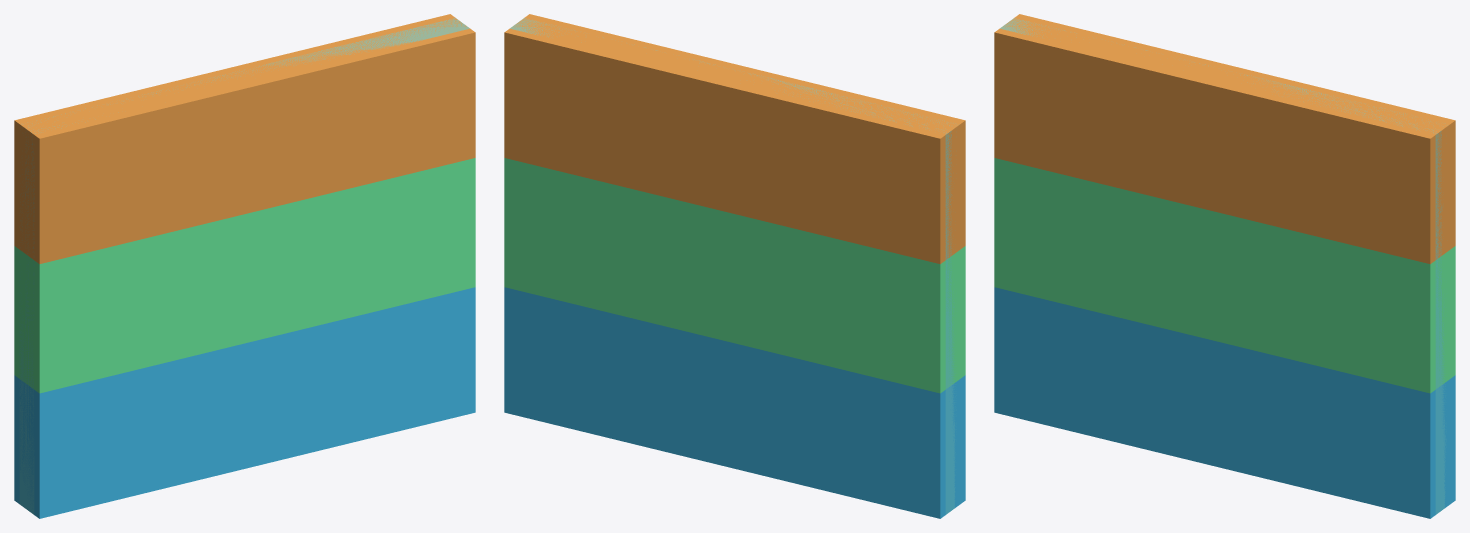
Rendered from dranmar_closure_adhesive_bond_stages_debug.glb.
The picture shows the model from 3 angles, left to right: view 1: azimuth 30°, elevation 25°; view 2: azimuth 150°, elevation 25°; view 3: azimuth 330°, elevation 25°; orthographic projection.
Visible parts, largest first — view 1: left_trailing, right_trailing, left_tack, left_leading, right_tack, right_leading, bead; view 2: left_trailing, right_trailing, left_tack, left_leading, right_tack, right_leading, bead; view 3: right_trailing, left_trailing, right_tack, right_leading, left_tack, left_leading, bead.
Boxes of the visible parts, x1,y1,x2,y2 form: left_trailing: (14, 67, 257, 264); right_trailing: (232, 14, 475, 210); left_tack: (14, 211, 257, 393); left_leading: (14, 340, 257, 518); right_tack: (257, 158, 475, 339); right_leading: (257, 287, 475, 465); bead: (19, 18, 469, 514); left_trailing: (722, 67, 965, 264); right_trailing: (504, 14, 747, 210); left_tack: (722, 211, 965, 393); left_leading: (722, 340, 965, 518); right_tack: (504, 158, 722, 339); right_leading: (504, 287, 722, 465); bead: (510, 18, 955, 514); right_trailing: (1212, 67, 1455, 264); left_trailing: (994, 14, 1237, 210); right_tack: (1212, 211, 1455, 393); right_leading: (1212, 340, 1455, 518); left_tack: (994, 158, 1212, 339); left_leading: (994, 287, 1212, 465); bead: (1000, 18, 1446, 514).
Bounding box in the file's own units: 0.012 × 0.01 × 0.0012.
